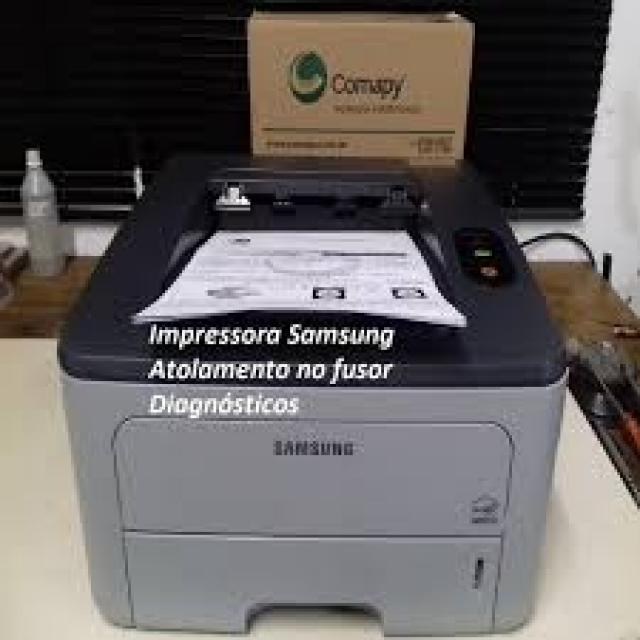printer: (56, 150, 573, 640)
